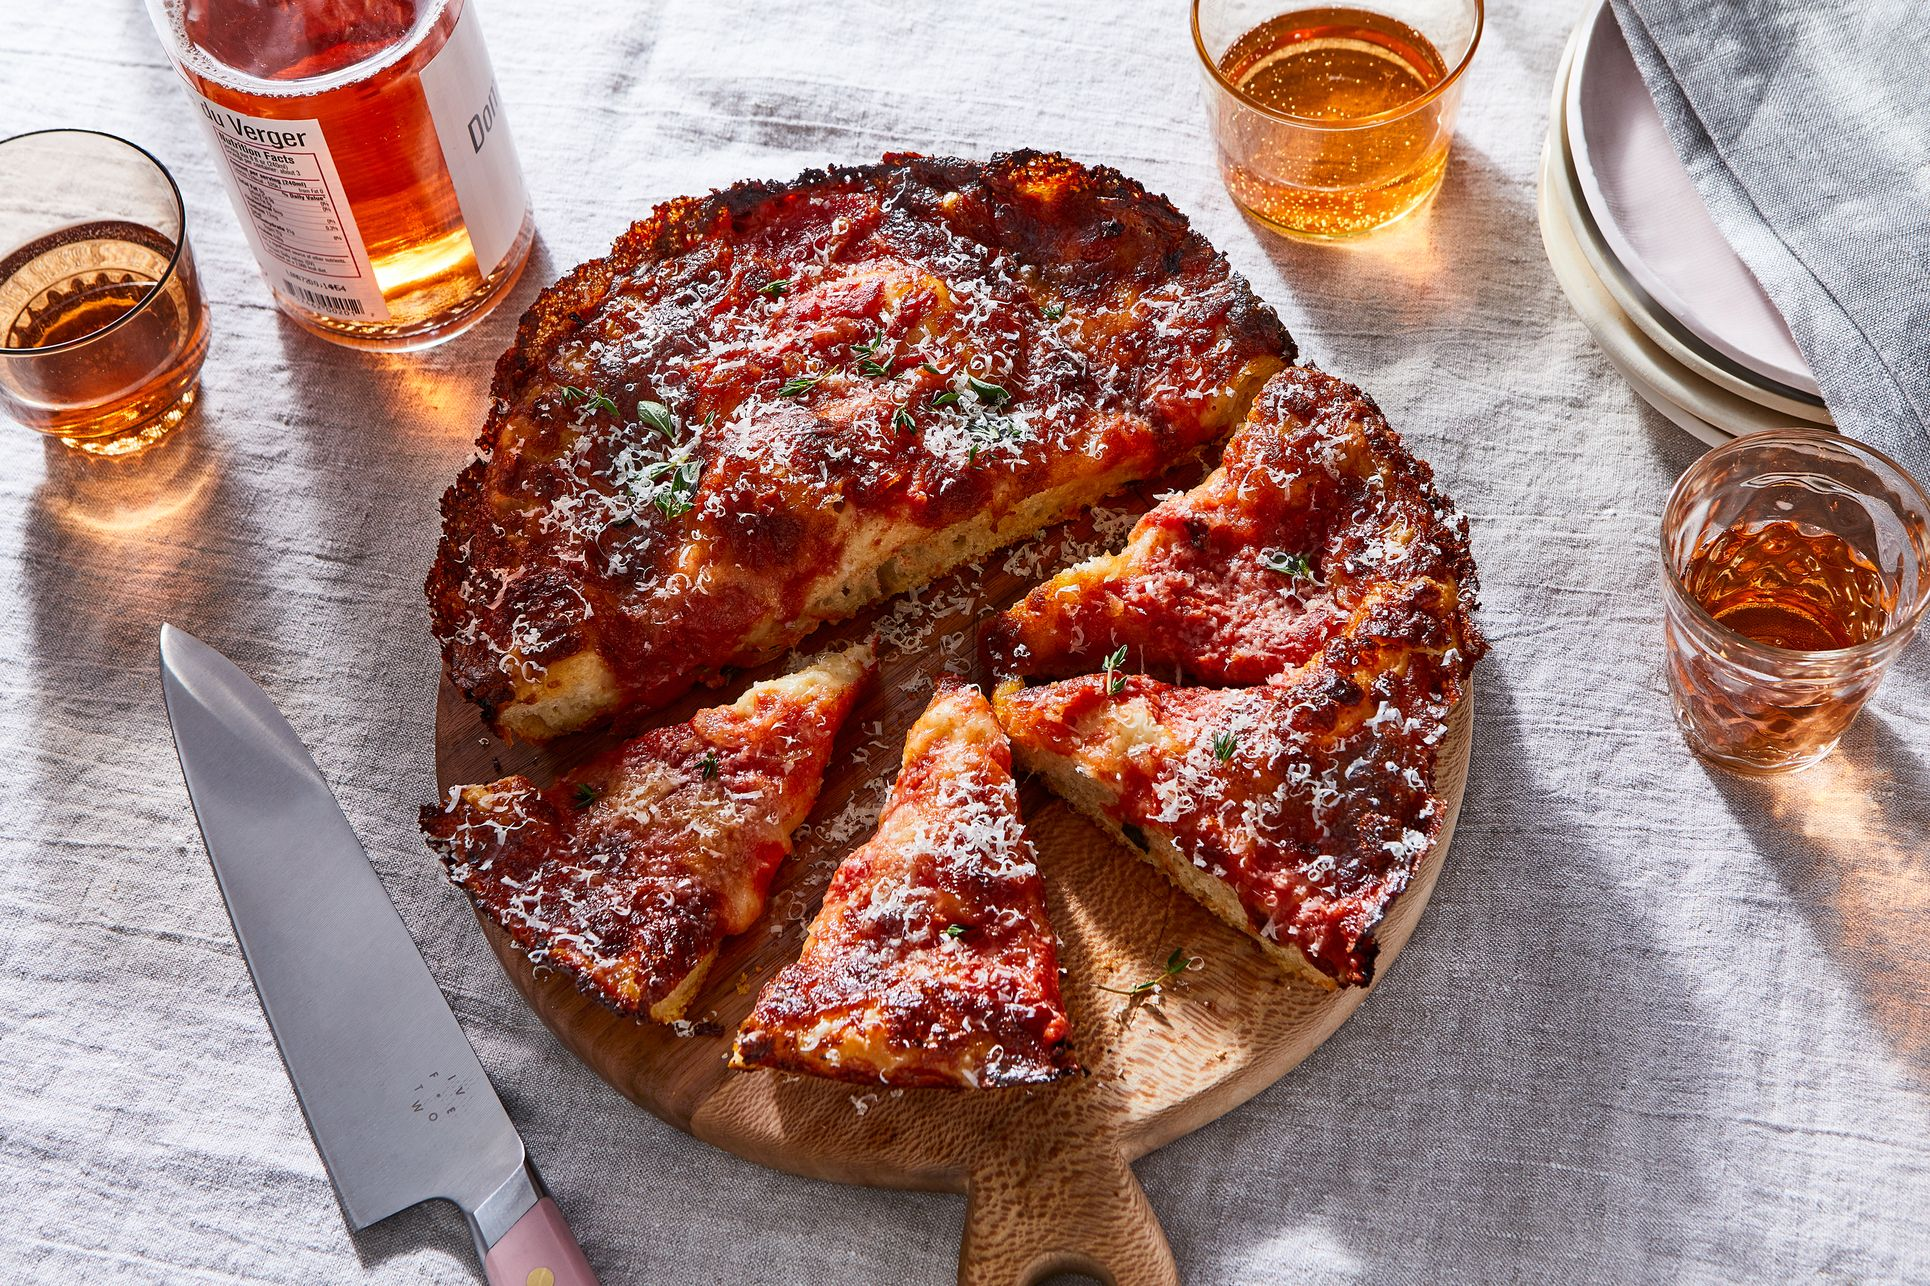pizza: (347, 115, 1510, 1127)
